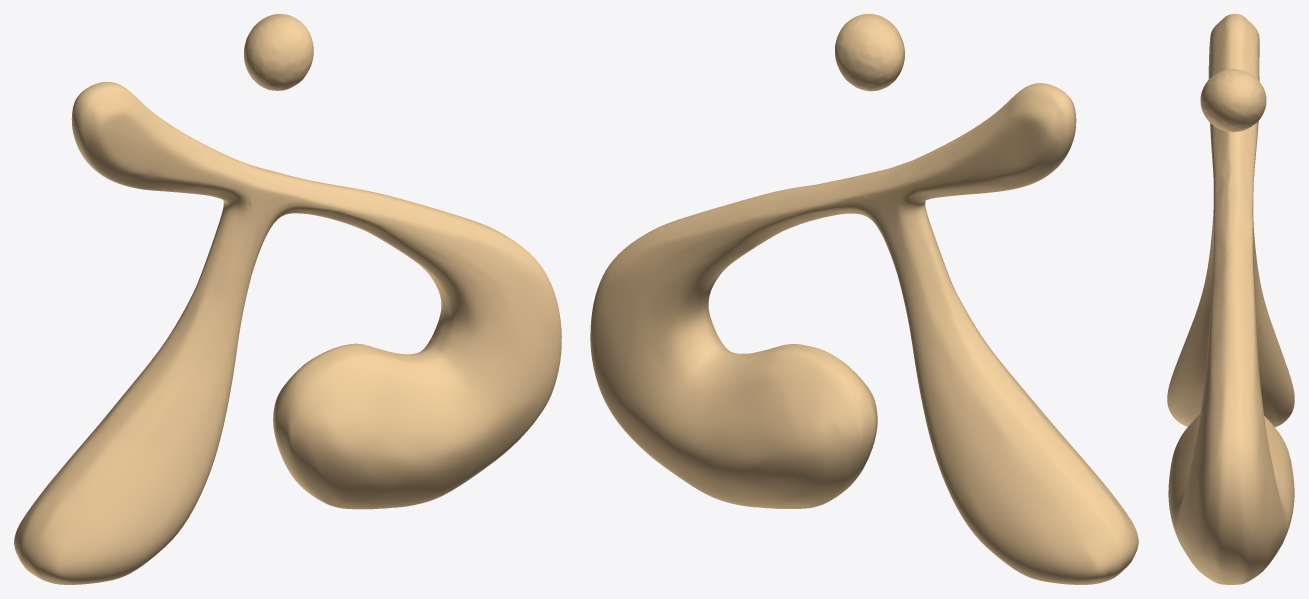
Rendered from asset.glb.
3 renders of one model, left to right at view 1: azimuth 30°, elevation 25°; view 2: azimuth 150°, elevation 25°; view 3: azimuth 270°, elevation 25°, orthographic. The views are drawn at different scales.
Parts seen in each view (by area): view 1: emblem22; view 2: emblem22; view 3: emblem22.
Boxes of the visible parts, x1,y1,x2,y2 form: emblem22: [14, 14, 561, 584]; emblem22: [590, 14, 1138, 584]; emblem22: [1167, 14, 1294, 584].
Size of the model in its own units: 2.52 by 2.33 by 0.6008.
